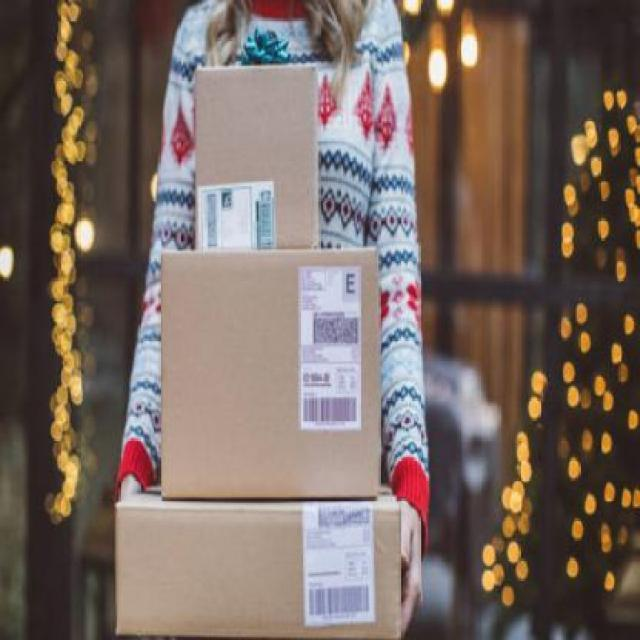box: (149, 239, 376, 501), (111, 482, 402, 640), (189, 63, 315, 249)
